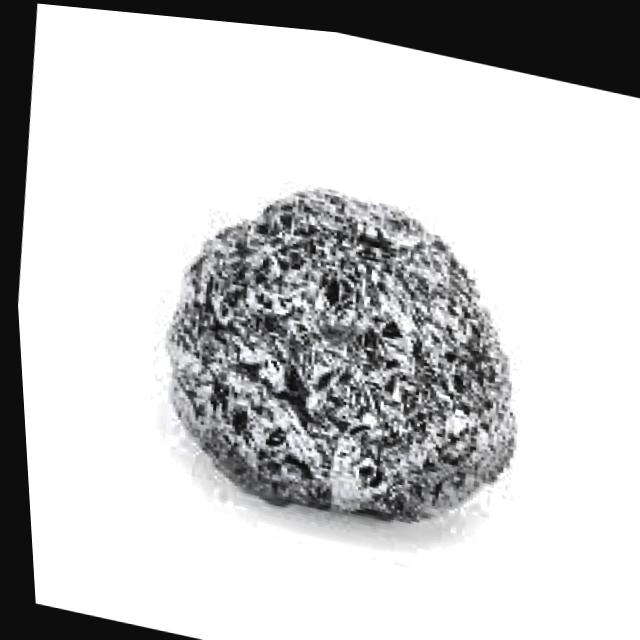Foil: (137, 127, 549, 560)
